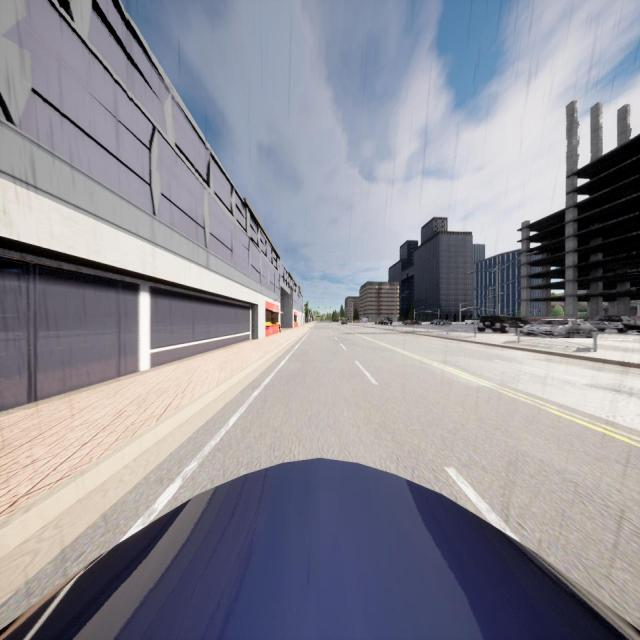Vehicle: (0, 459, 640, 640), (523, 317, 598, 338), (597, 314, 640, 332), (477, 315, 511, 333), (402, 319, 422, 325), (378, 317, 392, 325), (430, 319, 441, 325), (441, 320, 452, 326), (341, 320, 348, 325)
traffic_light: (318, 306, 319, 309), (330, 306, 331, 309), (325, 306, 325, 309)
